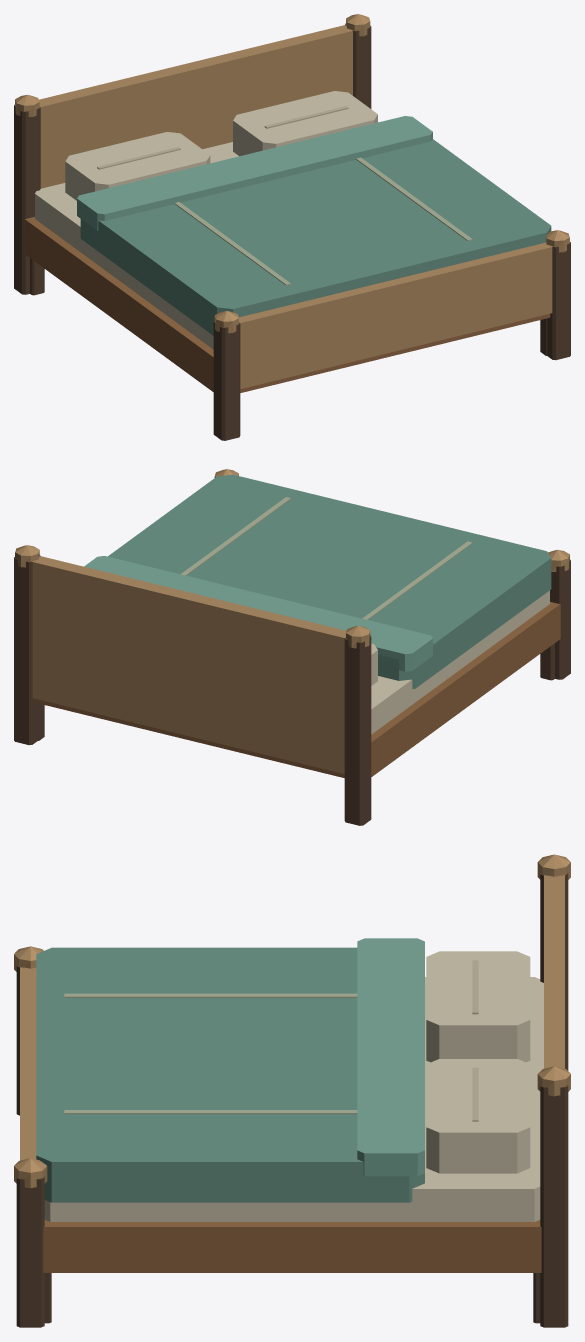
The model's file is bed_double.glb.
3 renders of one model, top to bottom at view 1: azimuth 30°, elevation 25°; view 2: azimuth 150°, elevation 25°; view 3: azimuth 270°, elevation 25°, orthographic. The views are drawn at different scales.
Parts seen in each view (by area): view 1: geometry; view 2: geometry; view 3: geometry.
Part boxes in pixels (left/top/right/bottom): geometry: left=14, top=14, right=570, bottom=440; geometry: left=14, top=469, right=570, bottom=825; geometry: left=14, top=854, right=570, bottom=1327.
Bounding box in the file's own units: 1.9 × 1 × 1.98.
